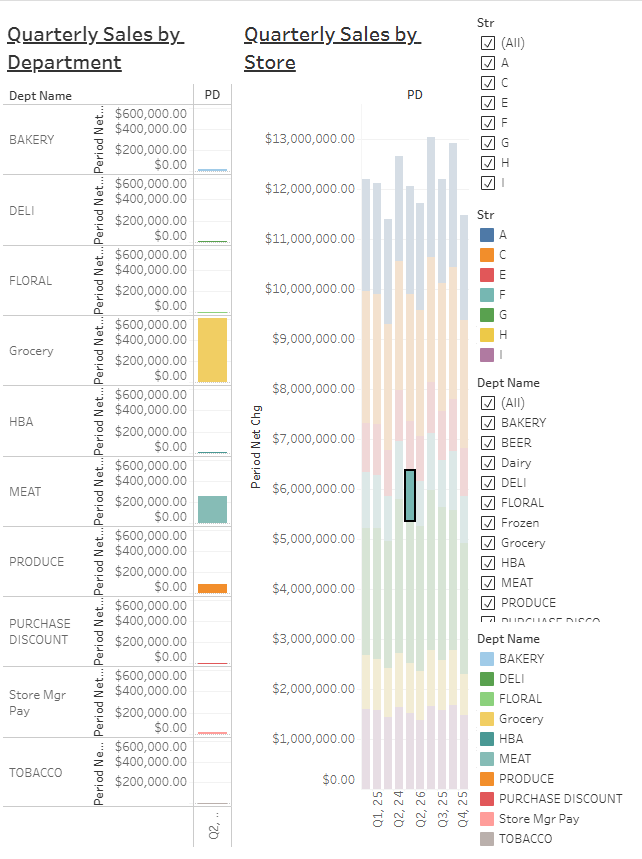

This screenshot's page, from the dashboard's own definition file:
{"tool":"tableau","page":{"name":"Retail Store Analysis","canvas":[650,860],"ordinal":0},"visuals":[{"type":"worksheet","title":"Sheet 1 (2)","mark":"Automatic","rows":["Dept Name","Period Net Chg"],"cols":["PD"],"box":[8,8,237,844]},{"type":"worksheet","title":"Sheet 1","mark":"Automatic","rows":["Period Net Chg"],"cols":["PD"],"box":[245,8,237,844]},{"type":"filter","title":"Sheet 1","param":"[federated.1wqb89d1hifgzz18p4des0aot7fi].[none:Str:nk]","box":[482,8,160,184]},{"type":"legend","title":"Sheet 1","param":"[federated.1wqb89d1hifgzz18p4des0aot7fi].[none:Str:nk]","box":[482,192,160,166]},{"type":"filter","title":"Sheet 1 (2)","param":"[federated.1wqb89d1hifgzz18p4des0aot7fi].[none:Dept Name:nk]","box":[482,358,160,268]},{"type":"legend","title":"Sheet 1 (2)","param":"[federated.1wqb89d1hifgzz18p4des0aot7fi].[none:Dept Name:nk]","box":[482,626,160,226]}]}

Visuals, with their boxes in screenshot pixels (x1, y1, x2, y2), scaled from the page's 650x860 canvas onto the 642x859 screenshot:
"Sheet 1 (2)" worksheet: rect(8, 8, 242, 851)
"Sheet 1" worksheet: rect(242, 8, 476, 851)
"Sheet 1" filter: rect(476, 8, 634, 192)
"Sheet 1" legend: rect(476, 192, 634, 358)
"Sheet 1 (2)" filter: rect(476, 358, 634, 625)
"Sheet 1 (2)" legend: rect(476, 625, 634, 851)
